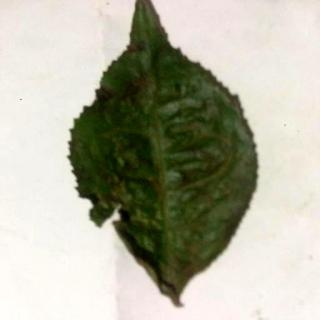Red Leaf Spot: (69, 1, 259, 309)
